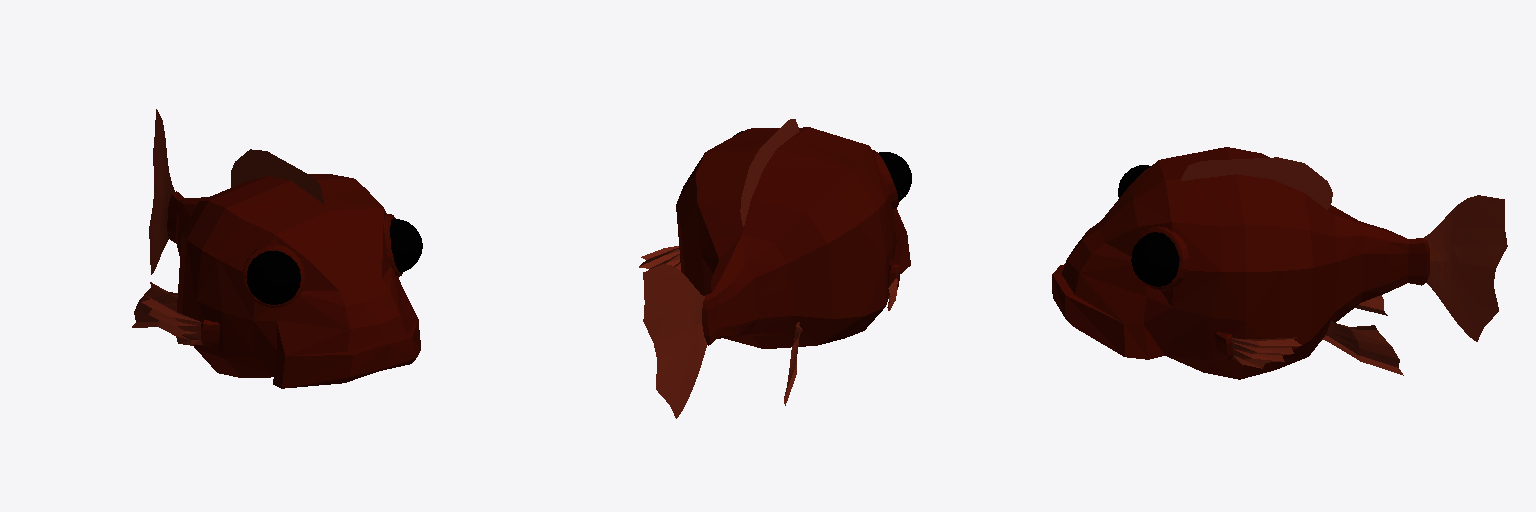
The model's file is CoralGrouper.obj.
3 views of the same model, side by side, from view 1: azimuth 30°, elevation 25°; view 2: azimuth 150°, elevation 25°; view 3: azimuth 270°, elevation 25° (orthographic).
Visible parts, largest first — view 1: CoralGrouper_Icosphere.017; view 2: CoralGrouper_Icosphere.017; view 3: CoralGrouper_Icosphere.017.
Boxes of the visible parts, x1=… form: CoralGrouper_Icosphere.017: x1=132, y1=109, x2=422, y2=388; CoralGrouper_Icosphere.017: x1=639, y1=119, x2=911, y2=418; CoralGrouper_Icosphere.017: x1=1052, y1=147, x2=1507, y2=379.
Size of the model in its own units: 3.15 by 2.63 by 5.23.